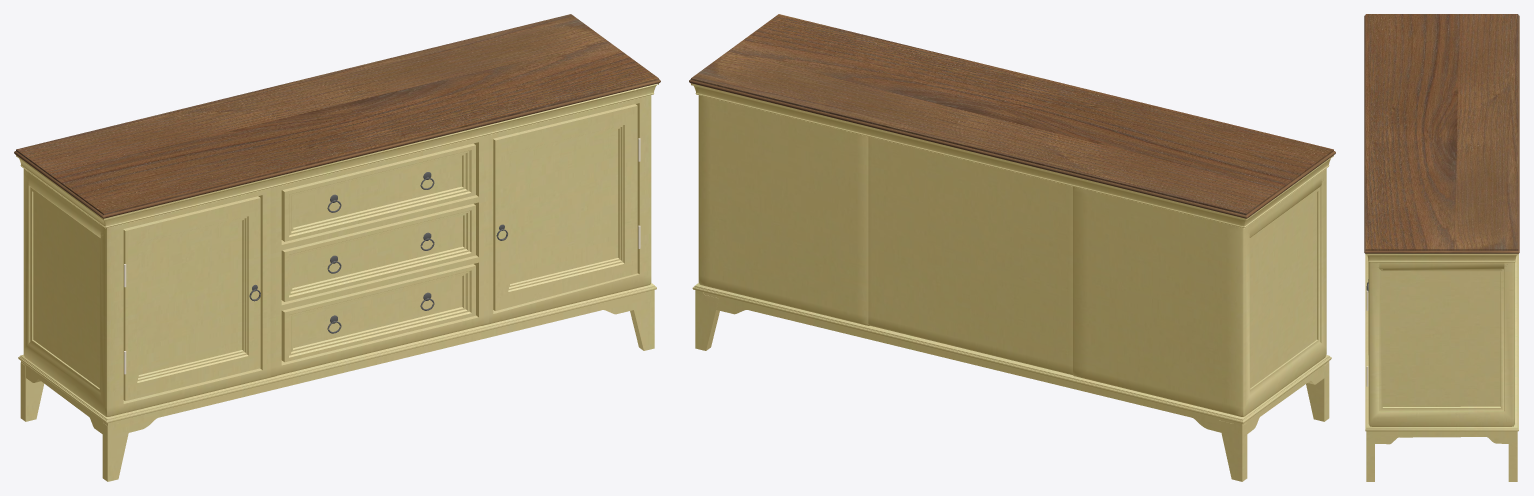
The picture shows the model from 3 angles, left to right: view 1: azimuth 30°, elevation 25°; view 2: azimuth 150°, elevation 25°; view 3: azimuth 270°, elevation 25°; orthographic projection. The views are drawn at different scales.
Visible parts, largest first — view 1: ID74, ID56, ID65, ID47, ID74 1, ID94, ID85, ID372, ID345, ID354; view 2: ID74, ID56, ID65, ID47, ID74 1, ID94, ID85, ID345, ID363, ID372; view 3: ID74, ID47, ID85, ID74 1, ID94, ID363, ID354.
Boxes of the visible parts, bbox=[...] form: ID74: bbox=[14, 14, 660, 218]; ID56: bbox=[23, 169, 275, 416]; ID65: bbox=[270, 135, 488, 376]; ID47: bbox=[482, 95, 651, 325]; ID74 1: bbox=[16, 83, 658, 228]; ID94: bbox=[21, 290, 654, 433]; ID85: bbox=[18, 283, 656, 423]; ID372: bbox=[102, 420, 131, 481]; ID345: bbox=[20, 362, 44, 421]; ID354: bbox=[630, 305, 654, 350]; ID74: bbox=[689, 14, 1335, 218]; ID56: bbox=[1073, 168, 1326, 416]; ID65: bbox=[868, 136, 1072, 374]; ID47: bbox=[698, 95, 869, 325]; ID74 1: bbox=[691, 83, 1333, 228]; ID94: bbox=[695, 290, 1329, 433]; ID85: bbox=[692, 283, 1331, 423]; ID345: bbox=[1218, 420, 1247, 481]; ID363: bbox=[695, 293, 719, 350]; ID372: bbox=[1306, 362, 1329, 421]; ID74: bbox=[1364, 14, 1519, 253]; ID47: bbox=[1368, 262, 1514, 426]; ID85: bbox=[1365, 253, 1518, 431]; ID74 1: bbox=[1365, 253, 1518, 262]; ID94: bbox=[1366, 431, 1517, 444]; ID363: bbox=[1508, 436, 1517, 481]; ID354: bbox=[1366, 444, 1374, 481].
Bounding box in the file's own units: 0.1835 × 0.0846 × 0.0509.
Materials: 7 (2 with a texture image).
